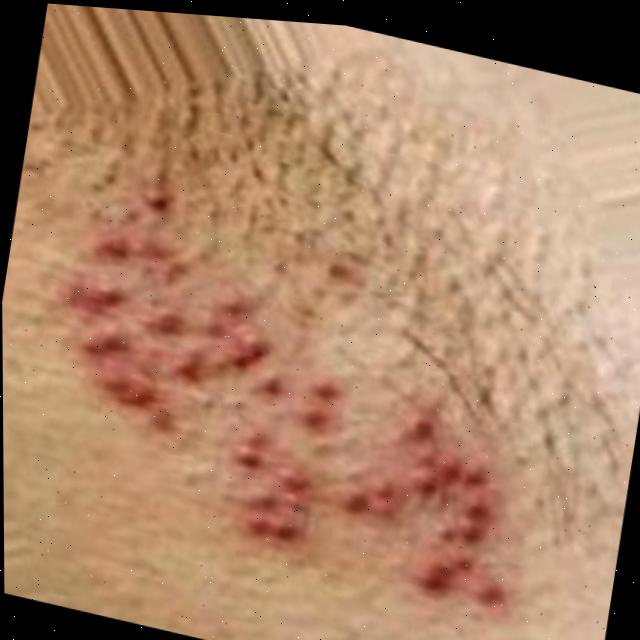Shingles: (41, 221, 562, 627)
